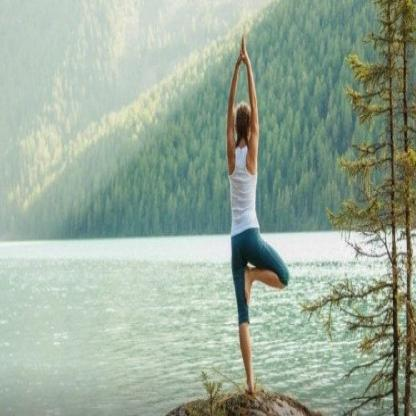tree: (218, 30, 291, 400)
